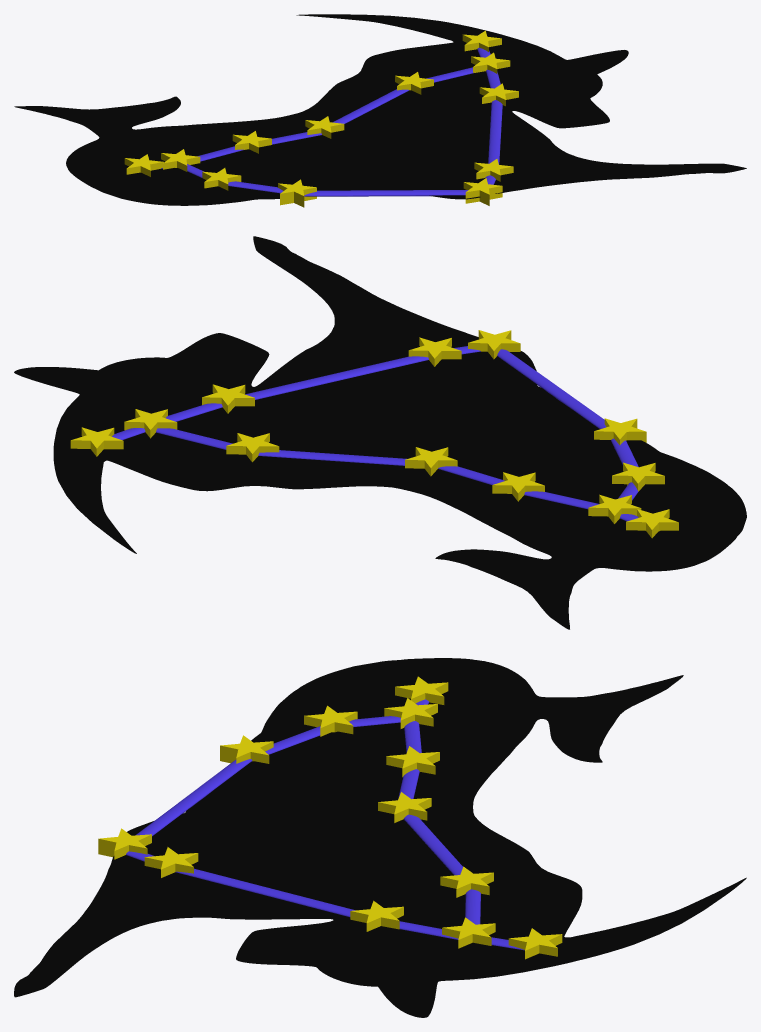
Rendered from Yagi-za.glb.
The picture shows the model from 3 angles, top to bottom: view 1: azimuth 30°, elevation 25°; view 2: azimuth 150°, elevation 25°; view 3: azimuth 270°, elevation 25°; orthographic projection. The views are drawn at different scales.
Visible parts, largest first — view 1: トレース, 円柱.004, 円.015, 円柱.002, 円.025, 円柱.011, 円.022, 円.020, 円.016, 円.023, 円.021, 円.024 (+4 smaller); view 2: トレース, 円柱.002, 円柱.004, 円柱.011, 円.024, 円.020, 円.021, 円.025, 円.017, 円.014, 円.010, 円.016 (+4 smaller); view 3: トレース, 円柱.002, 円柱.004, 円.015, 円.025, 円.017, 円柱.011, 円.021, 円.024, 円.019, 円.016, 円.010 (+4 smaller).
Boxes of the visible parts, x1,y1,x2,y2 form: トレース: (14,14,746,205); 円柱.004: (304,190,468,196); 円.015: (463,178,502,205); 円柱.002: (488,100,502,164); 円.025: (278,179,316,207); 円柱.011: (332,89,409,123); 円.022: (161,149,200,171); 円.020: (124,154,163,176); 円.016: (474,159,513,181); 円.023: (232,131,271,153); 円.021: (202,168,241,190); 円.024: (462,30,501,51); トレース: (14,236,746,629); 円柱.002: (245,356,428,399); 円柱.004: (497,349,606,429); 円柱.011: (258,450,406,465); 円.024: (70,427,123,456); 円.020: (626,509,678,538); 円.021: (612,462,664,491); 円.025: (594,418,646,445); 円.017: (202,384,254,413); 円.014: (405,447,457,476); 円.010: (226,433,279,462); 円.016: (408,337,461,366); トレース: (14,658,746,1017); 円柱.002: (175,868,355,916); 円柱.004: (135,759,252,836); 円.015: (98,828,151,859); 円.025: (220,735,273,763); 円.017: (350,900,403,931); 円柱.011: (404,814,462,875); 円.021: (304,705,357,736); 円.024: (508,928,562,959); 円.019: (442,917,495,948); 円.016: (144,847,198,877); 円.010: (440,866,493,897).
Bounding box in the file's own units: 44.51 × 0.8959 × 38.3.
